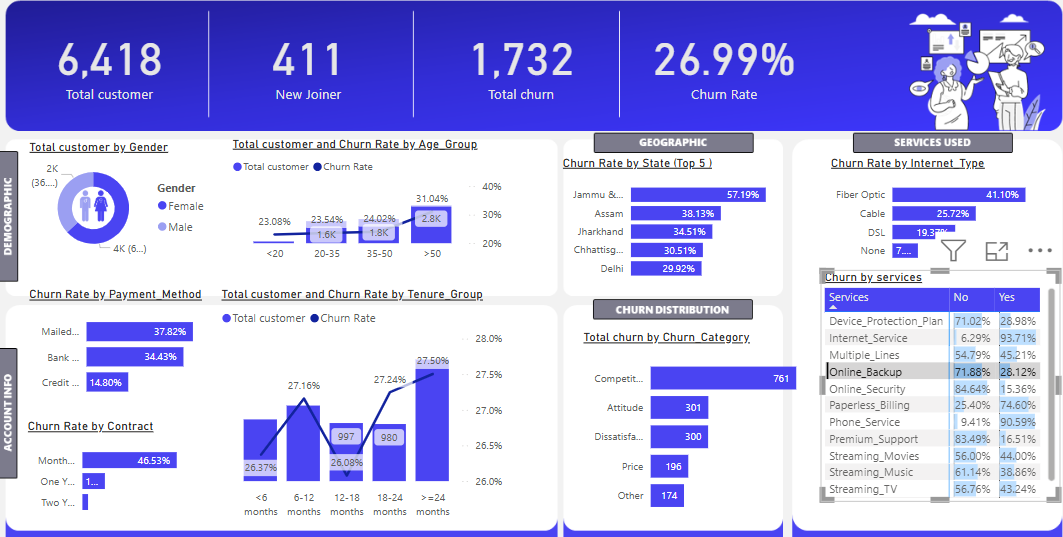

Layout of this report page (visuals, bound fields, positions):
{"tool":"powerbi","page":{"name":"Summary ","canvas":[1280,1000],"ordinal":0},"visuals":[{"type":"card","fields":{"Values":["tbl_Measures.Total customer"]},"box":[36,222,200,132],"z":0},{"type":"card","fields":{"Values":["tbl_Measures.New Joiner"]},"box":[278,222,190,132],"z":1000},{"type":"card","fields":{"Values":["tbl_Measures.Total churn"]},"box":[528,222,194,132],"z":2000},{"type":"card","fields":{"Values":["tbl_Measures.Churn Rate"]},"box":[774,222,186,132],"z":3000},{"type":"donutChart","fields":{"Category":["prod_Churn.Gender"],"Y":["tbl_Measures.Total customer"]},"box":[36,382,228,146],"z":4000},{"type":"lineStackedColumnComboChart","fields":{"Category":["mapping_AgeGroup.Age_Group"],"Y":["tbl_Measures.Total customer"],"Y2":["tbl_Measures.Churn Rate"]},"box":[278,378,330,158],"z":5000},{"type":"clusteredBarChart","fields":{"Category":["prod_Churn.Payment_Method"],"Y":["tbl_Measures.Churn Rate"]},"box":[36,556,242,142],"z":6000},{"type":"clusteredBarChart","fields":{"Y":["tbl_Measures.Churn Rate"],"Category":["prod_Churn.Contract"]},"box":[34,714,230,124],"z":7000},{"type":"lineClusteredColumnComboChart","fields":{"Category":["mapping_TenuringGroup.Custom"],"Y":["tbl_Measures.Total customer"],"Y2":["tbl_Measures.Churn Rate"]},"box":[264,556,344,282],"z":8000},{"type":"clusteredBarChart","title":"Churn Rate by State (Top 5 )","fields":{"Category":["prod_Churn.State"],"Y":["tbl_Measures.Churn Rate"]},"box":[670.6,400,290.2,156.9],"z":9000},{"type":"clusteredBarChart","fields":{"Category":["prod_Churn.Churn_Category"],"Y":["tbl_Measures.Total churn"]},"box":[694,608,288,230],"z":10000},{"type":"clusteredBarChart","fields":{"Category":["prod_Churn.Internet_Type"],"Y":["tbl_Measures.Churn Rate"]},"box":[988,400,292,136],"z":11000},{"type":"pivotTable","title":"Churn by services","fields":{"Rows":["prod_services.Services"],"Columns":["prod_services.status"],"Values":["Sum(prod_services.Churn_status)"]},"box":[982,536,284,276],"z":12000},{"type":"slicer","fields":{"Values":["prod_services.Monthly charge status "]},"box":[527.5,139.2,292.2,64.7],"z":13000},{"type":"slicer","fields":{"Values":["prod_services.Married"]},"box":[839.2,139.2,294.1,64.7],"z":14000},{"type":"image","box":[84,430,66,58],"z":15000}]}

Visuals, with their boxes on the page's 1280x1000 design canvas (x1, y1, x2, y2). These are canvas units, not pixel positions in the 1063x537 screenshot, which may show the page scaled, cropped or inside an application window:
card - tbl_Measures.Total customer: box=[36, 222, 236, 354]
card - tbl_Measures.New Joiner: box=[278, 222, 468, 354]
card - tbl_Measures.Total churn: box=[528, 222, 722, 354]
card - tbl_Measures.Churn Rate: box=[774, 222, 960, 354]
donutChart - prod_Churn.Gender x tbl_Measures.Total customer: box=[36, 382, 264, 528]
lineStackedColumnComboChart - mapping_AgeGroup.Age_Group x tbl_Measures.Total customer: box=[278, 378, 608, 536]
clusteredBarChart - prod_Churn.Payment_Method x tbl_Measures.Churn Rate: box=[36, 556, 278, 698]
clusteredBarChart - tbl_Measures.Churn Rate x prod_Churn.Contract: box=[34, 714, 264, 838]
lineClusteredColumnComboChart - mapping_TenuringGroup.Custom x tbl_Measures.Total customer: box=[264, 556, 608, 838]
"Churn Rate by State (Top 5 )" clusteredBarChart: box=[671, 400, 961, 557]
clusteredBarChart - prod_Churn.Churn_Category x tbl_Measures.Total churn: box=[694, 608, 982, 838]
clusteredBarChart - prod_Churn.Internet_Type x tbl_Measures.Churn Rate: box=[988, 400, 1280, 536]
"Churn by services" pivotTable: box=[982, 536, 1266, 812]
slicer - prod_services.Monthly charge status : box=[528, 139, 820, 204]
slicer - prod_services.Married: box=[839, 139, 1133, 204]
image: box=[84, 430, 150, 488]
